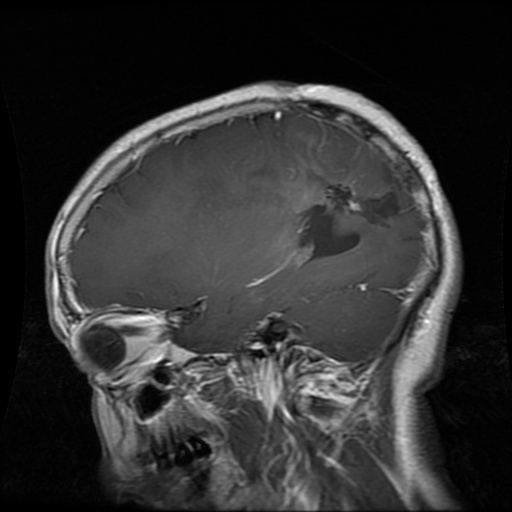glioma: (296, 158, 401, 263)
